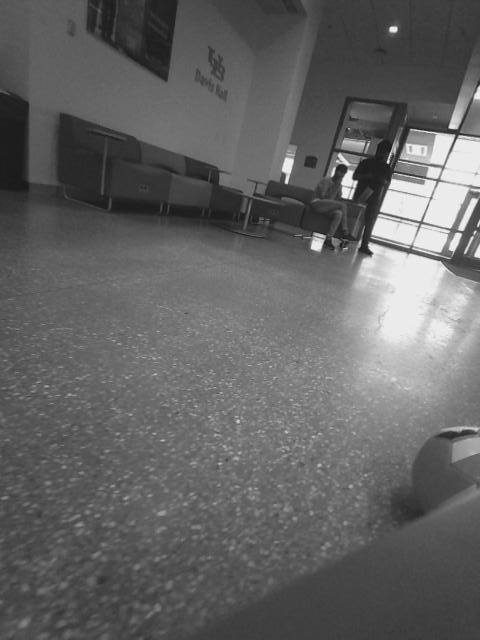ball: (297, 270, 351, 319)
